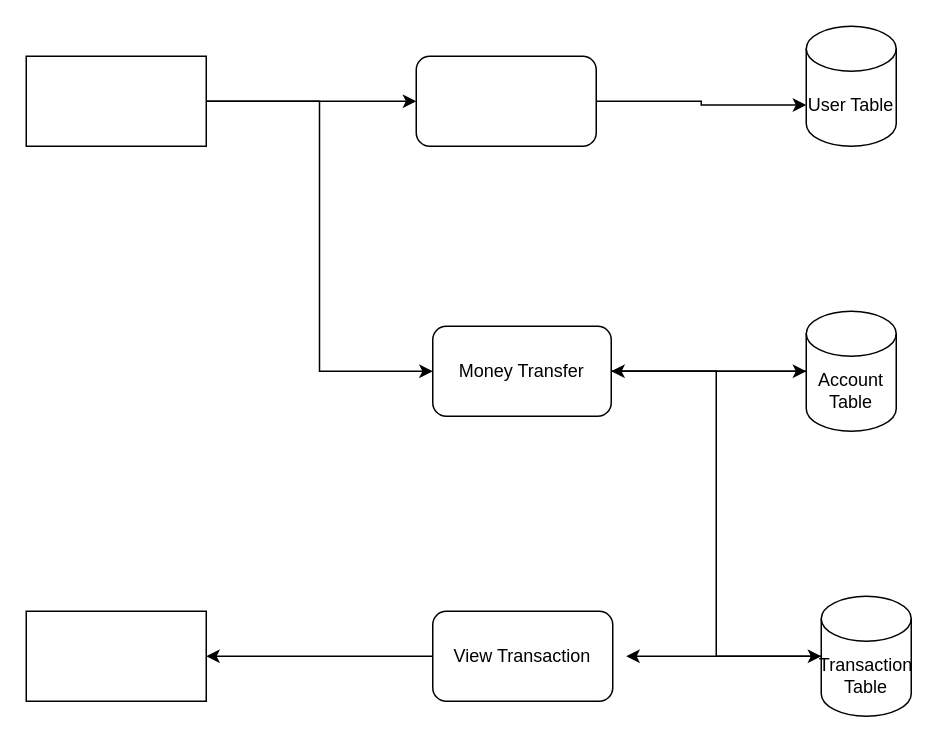
Some shapes in this 939 by 743 pixel diagram are drawn without their labels. Each missing label, with the centre of its shape:
Admins: (x=115, y=655)
User registration: (x=505, y=100)
Users: (x=115, y=100)
